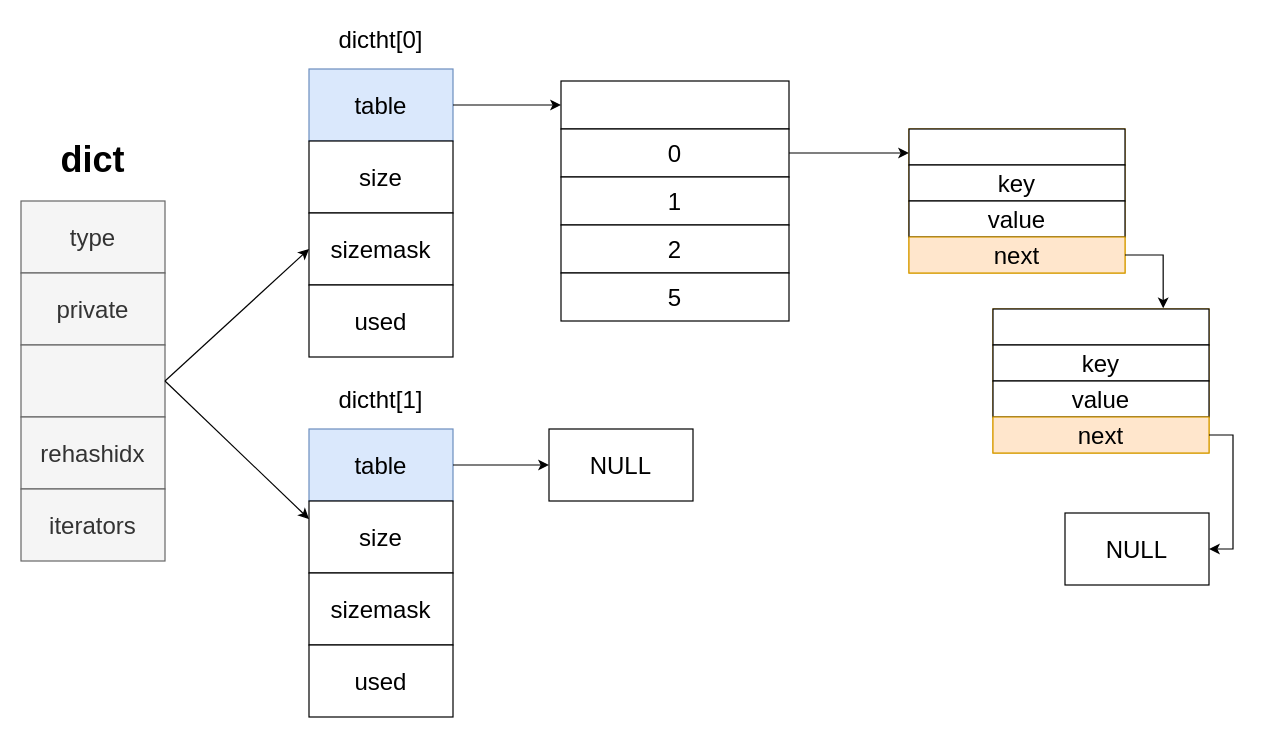
The diagram is 1264 pixels wide and 738 high, and some of its shapes have lost their labels. Each missing label, with the centre of its shape:
"dictEntry*[4]" belongs at (674,104).
"dictEntry1" belongs at (1016,146).
"dictEntry2" belongs at (1100,326).
"dictht ht[2]" belongs at (92,380).
